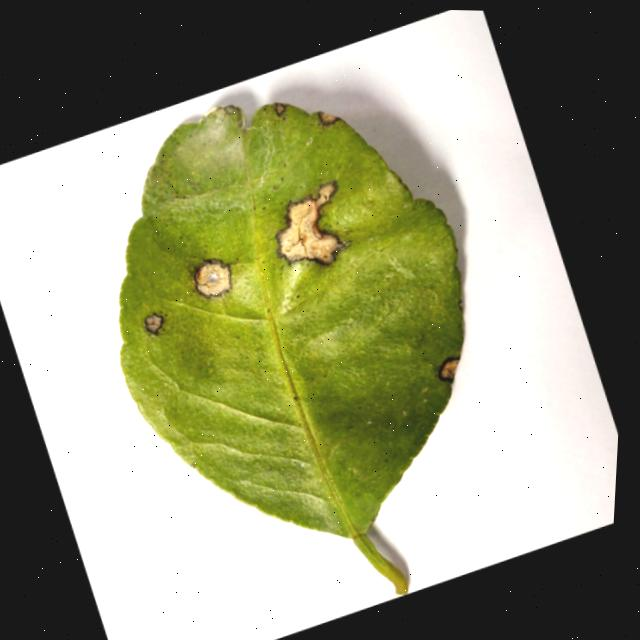antracnose: (119, 102, 462, 593), (276, 182, 345, 265), (194, 260, 230, 297), (143, 314, 162, 335), (439, 360, 458, 380), (317, 111, 340, 125)
